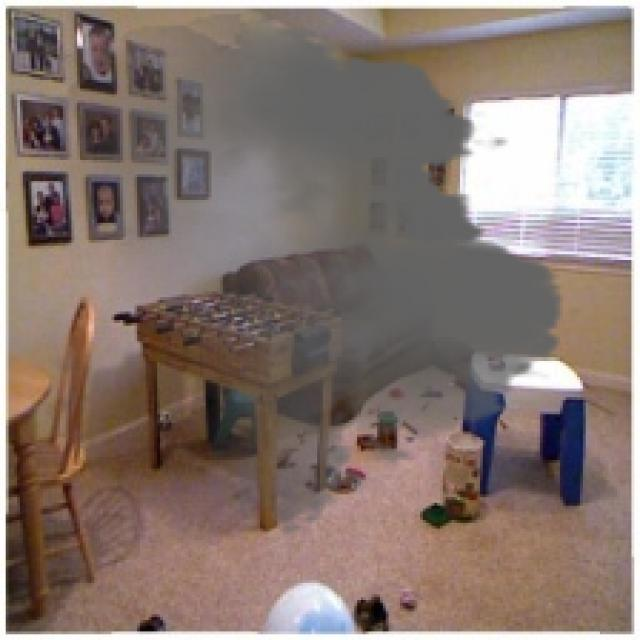smoke: (28, 14, 583, 537)
